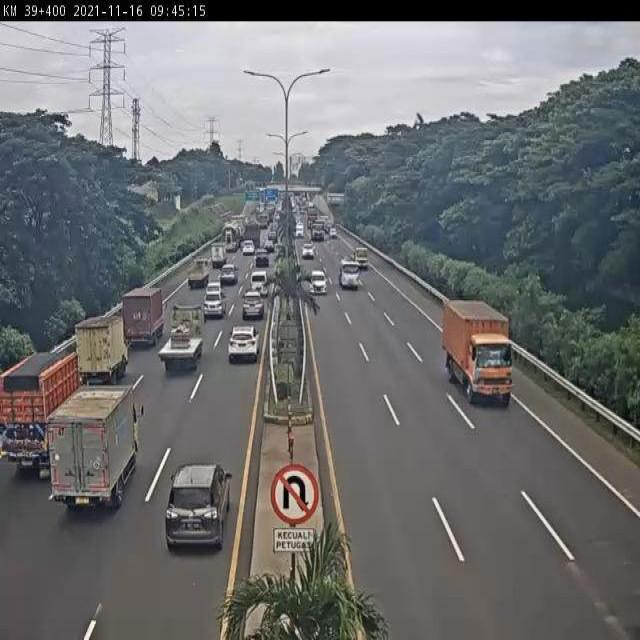car: (167, 461, 230, 552), (227, 327, 259, 365), (240, 292, 264, 323), (201, 295, 224, 321), (218, 263, 237, 285), (202, 281, 220, 299)
small bus: (248, 272, 267, 297)
small truck: (50, 387, 142, 509), (76, 317, 128, 384), (186, 259, 209, 288), (208, 242, 225, 266)
truck-m-: (0, 353, 81, 479), (443, 296, 513, 401), (158, 304, 204, 373), (122, 285, 164, 347)
